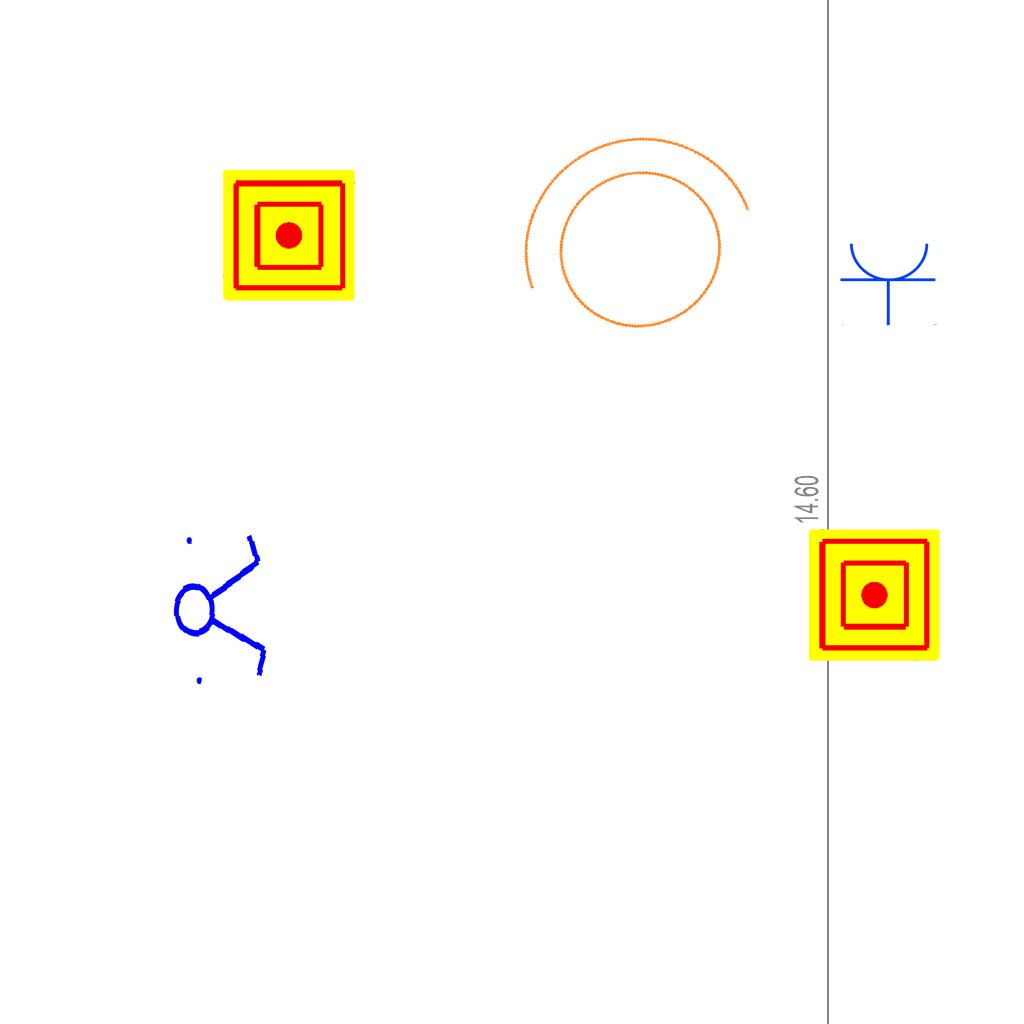NAM-Nichtautomatischer_Melder: (223, 169, 355, 301), (808, 529, 940, 661)
Scheinwerfer_fuer_Alarmbeleuchtung: (468, 91, 794, 394)
Schukosteckdose_einfach: (839, 239, 939, 326)
Serienschalter: (166, 519, 274, 695)
